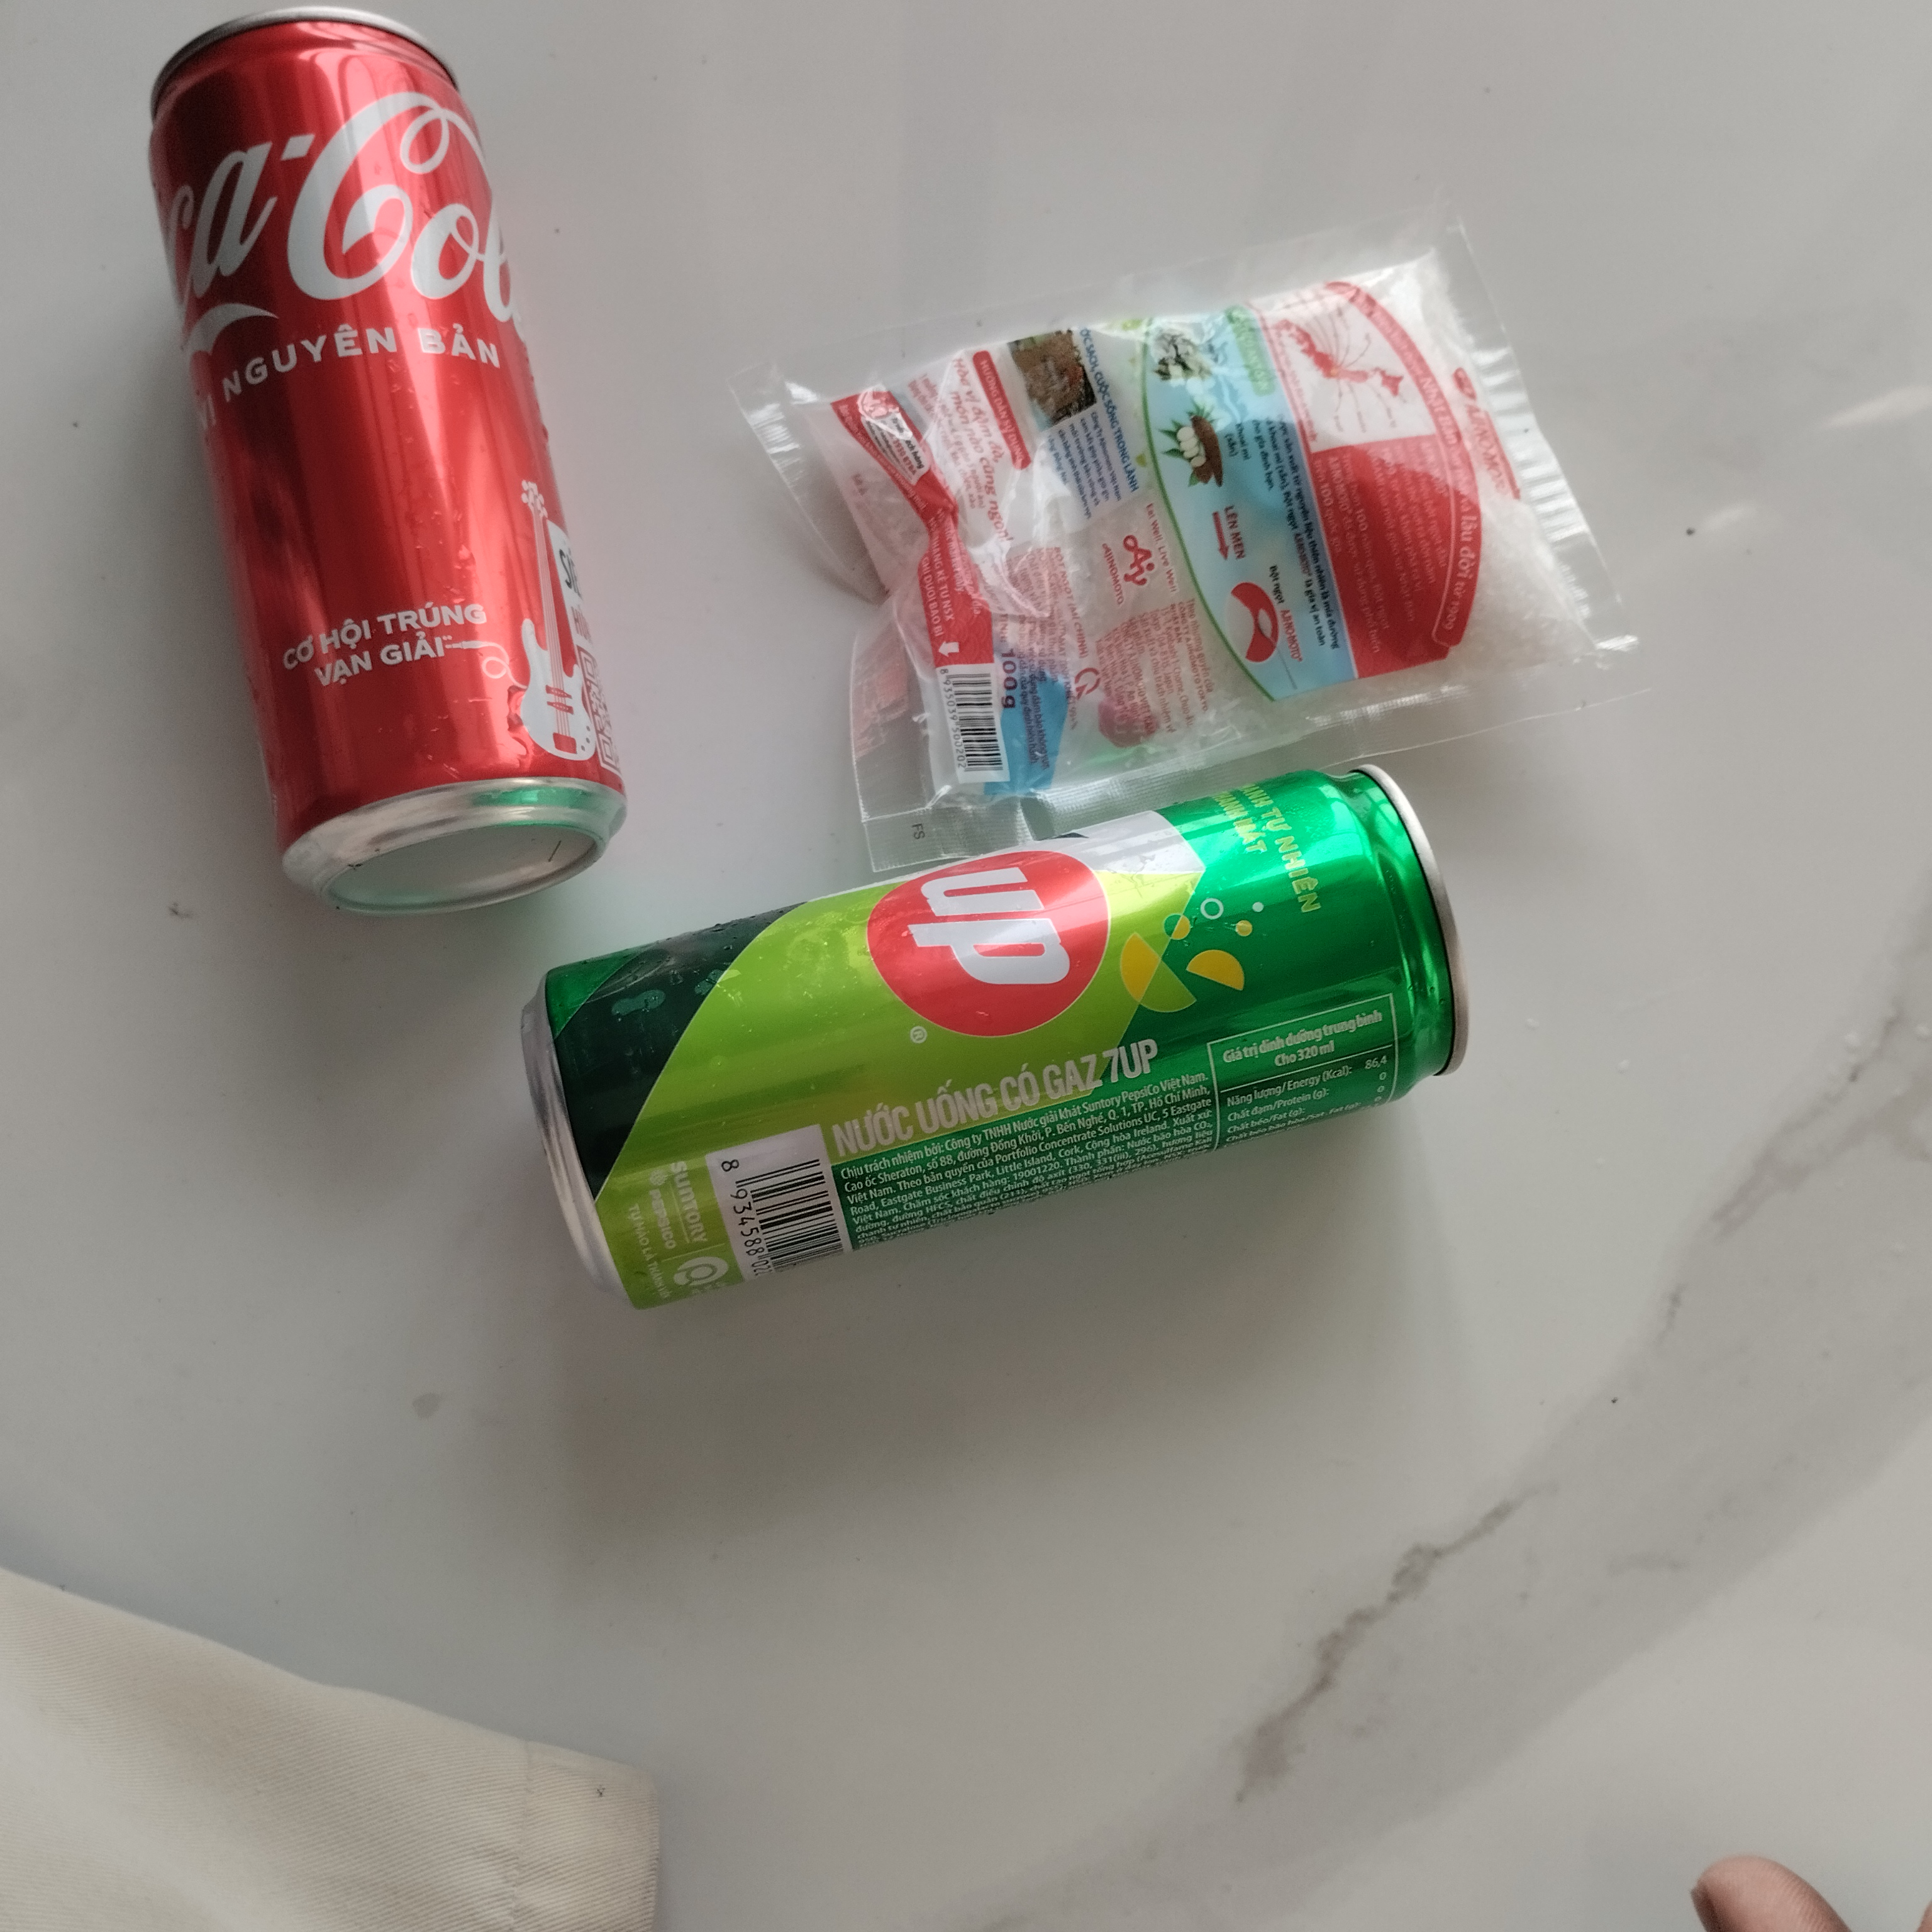7up: (495, 747, 1481, 1355)
Ajinomoto: (715, 218, 1649, 885)
Coca: (142, 2, 646, 924)
